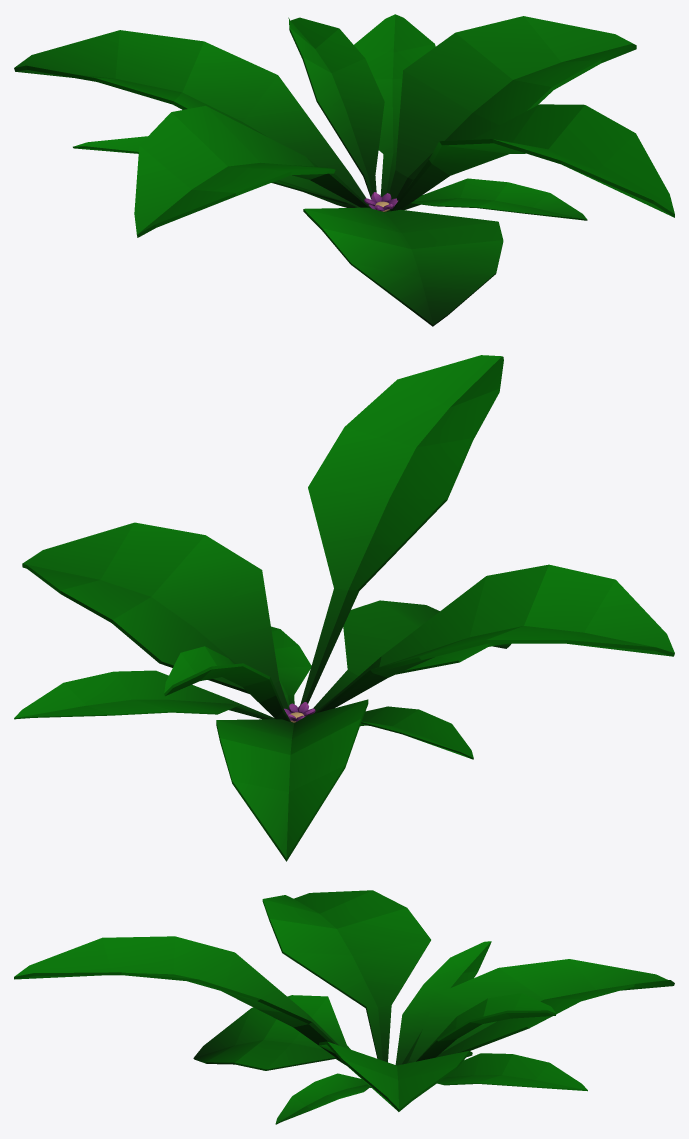
Rendered from Helecho_3_elementosDecorativos_T.fbx.
3 views of the same model, one above another, from view 1: azimuth 30°, elevation 25°; view 2: azimuth 150°, elevation 25°; view 3: azimuth 270°, elevation 25° (orthographic). The views are drawn at different scales.
Visible parts, largest first — view 1: Helecho 1; view 2: Helecho 1; view 3: Helecho 1.
Part boxes in pixels (x1,y1,x2,y2): Helecho 1: [14, 14, 674, 326]; Helecho 1: [14, 355, 674, 861]; Helecho 1: [14, 890, 674, 1124].
Size of the model in its own units: 955 by 313 by 1267.
